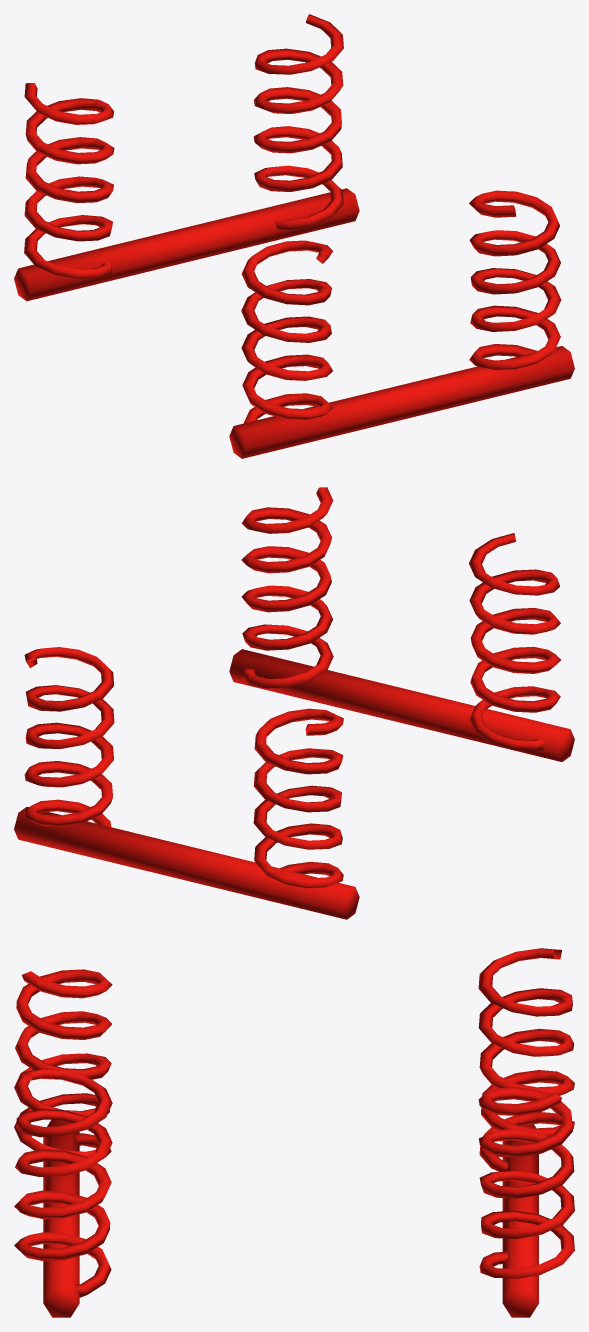
The model's file is Spring (3).fbx.
3 renders of one model, top to bottom at view 1: azimuth 30°, elevation 25°; view 2: azimuth 150°, elevation 25°; view 3: azimuth 270°, elevation 25°, orthographic. The views are drawn at different scales.
Visible parts, largest first — view 1: Spring; view 2: Spring; view 3: Spring.
Boxes of the visible parts, box(x1,y1,x2,y2) form: Spring: box(14, 14, 574, 458); Spring: box(14, 487, 574, 919); Spring: box(14, 948, 574, 1317).
Size of the model in its own units: 2.86 by 1.64 by 3.96.
